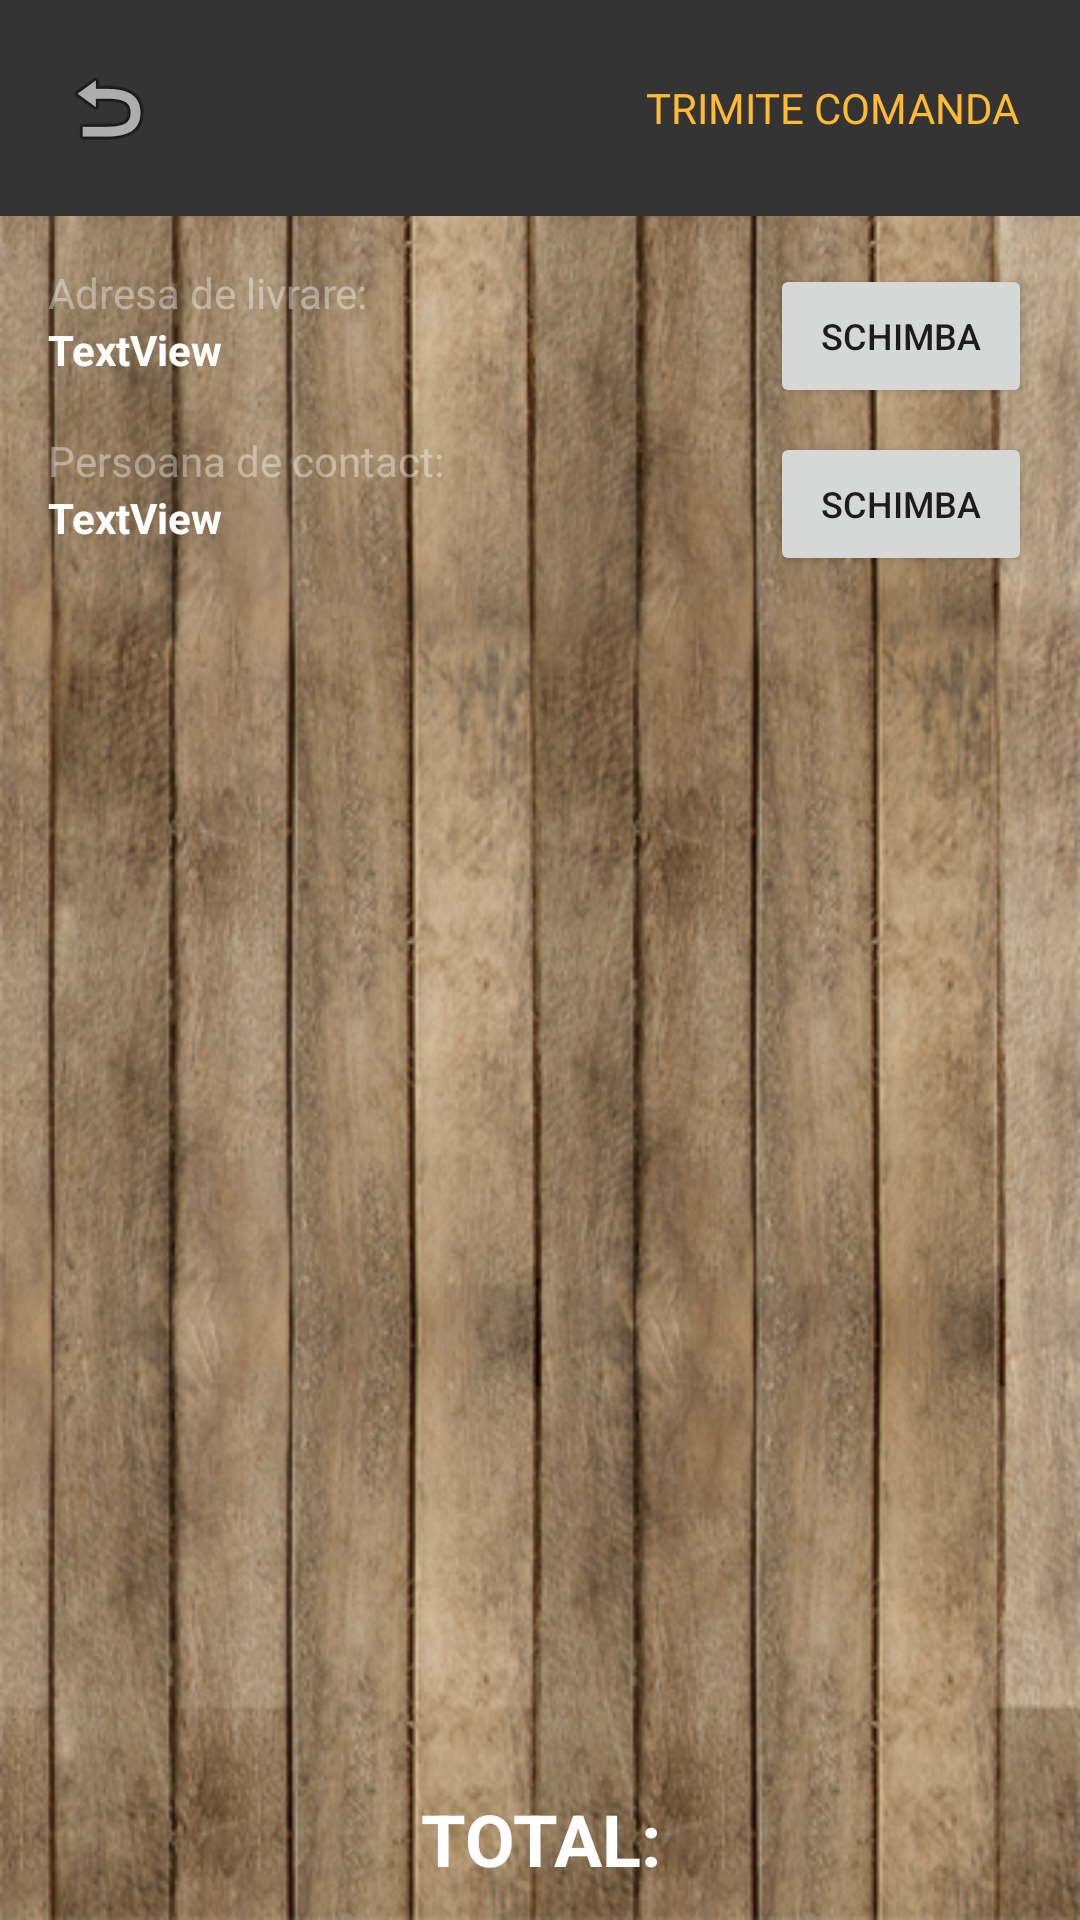

Point at icon controls on the screen. Image size 1080px×1920px, points as (x=x, y=y).
revert: (x=109, y=108)
